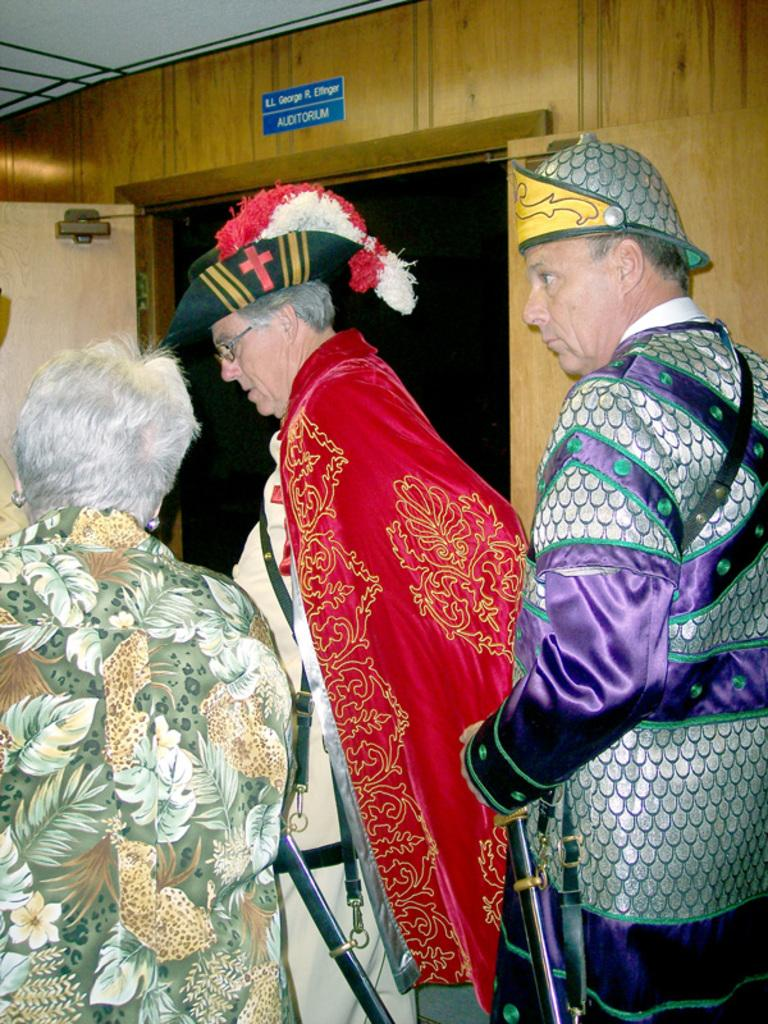Hat: (512, 132, 712, 268)
